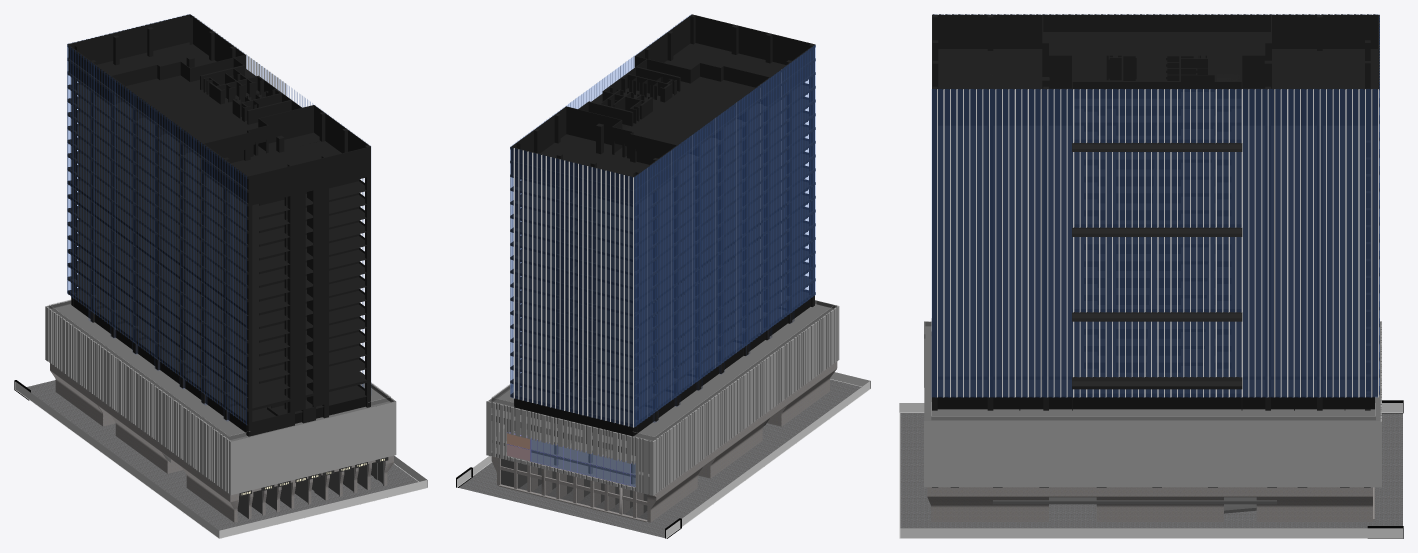
Rendered from AksharFinal-optimized.glb.
The picture shows the model from 3 angles, left to right: view 1: azimuth 30°, elevation 25°; view 2: azimuth 150°, elevation 25°; view 3: azimuth 270°, elevation 25°; orthographic projection. The views are drawn at different scales.
Visible parts, largest first — view 1: Rectangle2106774559; view 2: Rectangle2106774559; view 3: Rectangle2106774559.
Part boxes in pixels (<box>): Rectangle2106774559: <box>14,14,427,538</box>; Rectangle2106774559: <box>456,14,870,538</box>; Rectangle2106774559: <box>899,14,1403,538</box>.
Bounding box in the file's own units: 55.45 × 86.88 × 93.1.
25 materials, 3 textured.
